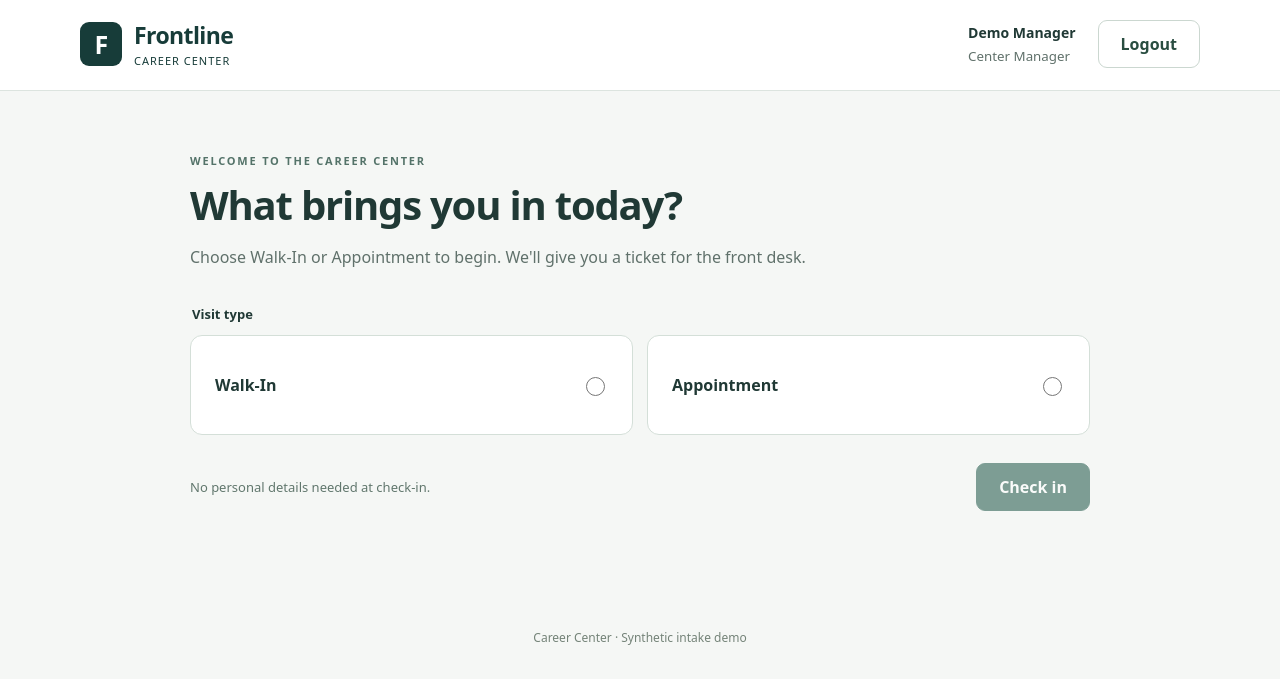
it: failed check-in shows an error and permits retry without losing the reason
The width and height of the screenshot is (1280, 679).
Expected: the button "Check in" is shown, [976,463,1090,511]
Click the radio button labelled "Walk-In". click: (596, 387)
box: [586,377,605,396]
(page scrolled)
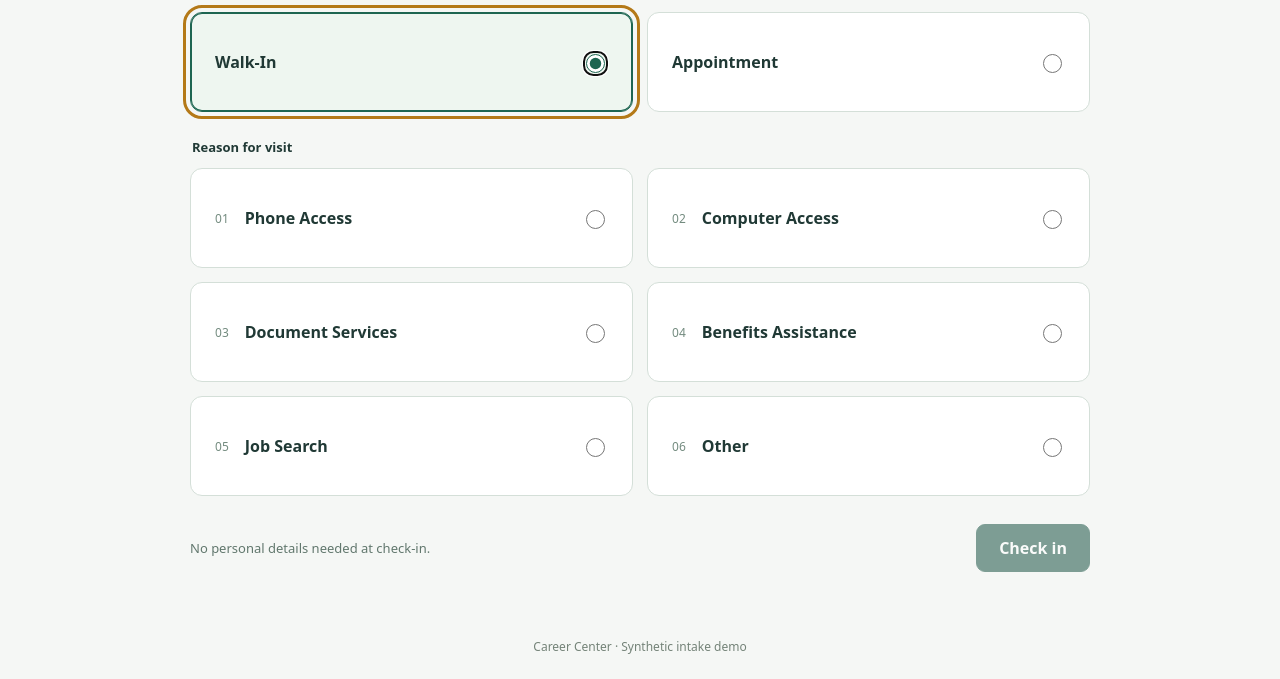
Click the radio button labelled "05 Job Search". click: (596, 448)
box: [586,438,605,457]
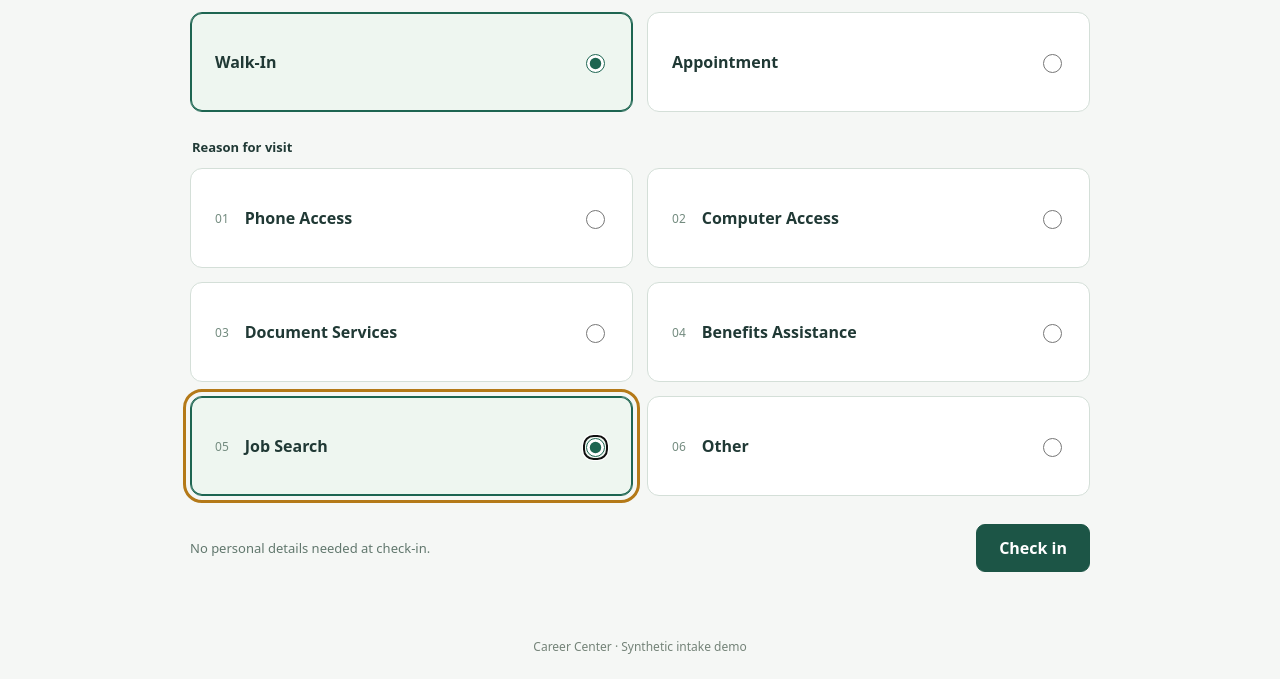
Click the button "Check in". click: (1033, 548)
box: [976,524,1090,572]
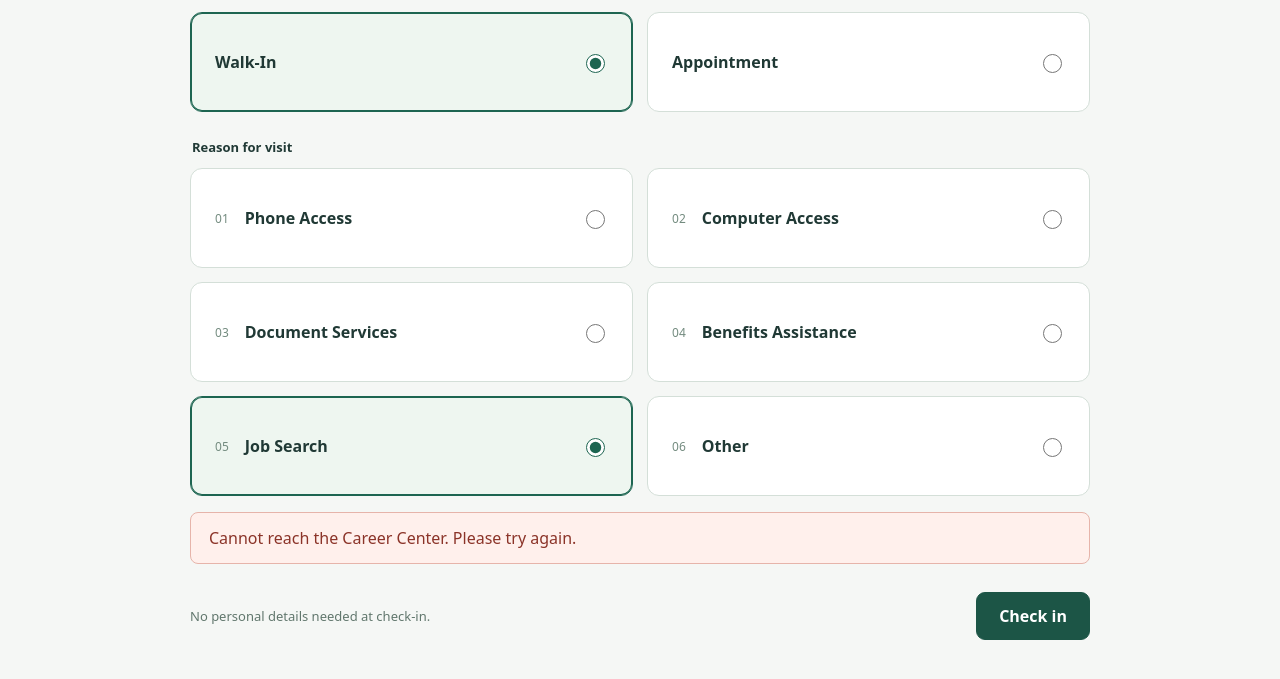
Expected: the radio button labelled "05 Job Search" is checked, [586,438,605,457]
Expected: the message "Cannot reach the Career Center. Please try again." is shown, [190,512,1090,564]
Click the button "Check in". click: (1033, 616)
box: [976,592,1090,640]
(page scrolled)
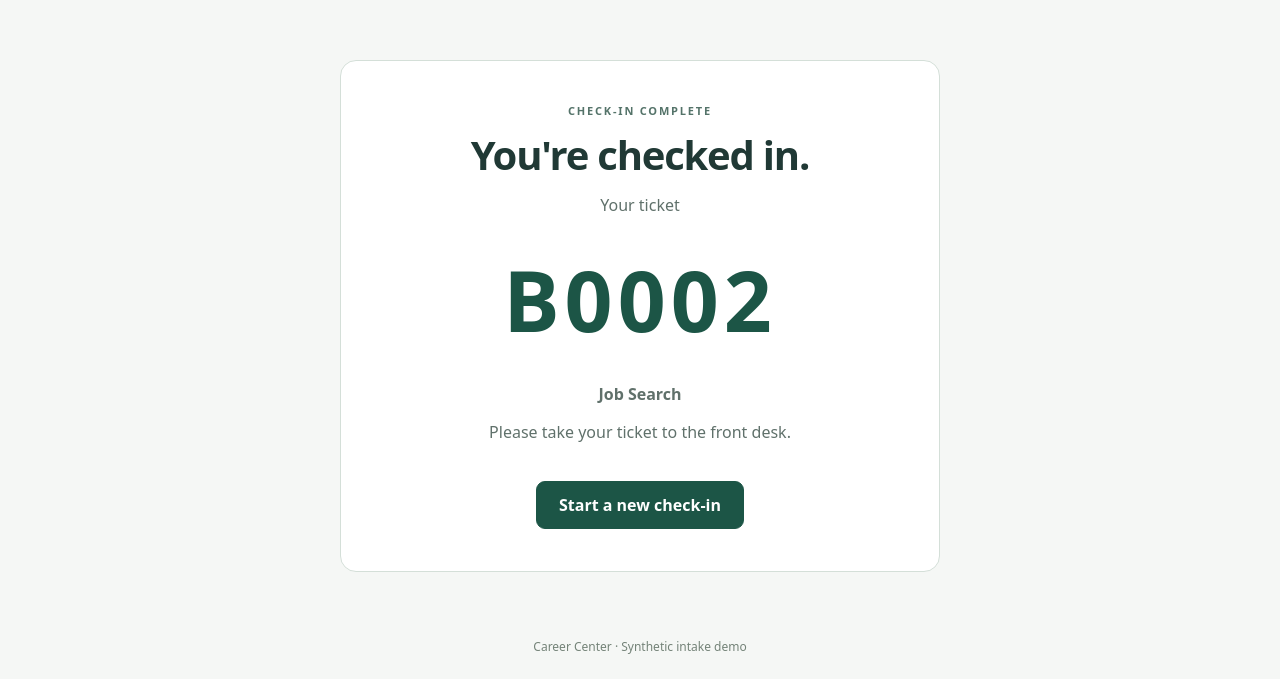
Expected: the text "B0002" is shown, [503,242,777,357]
